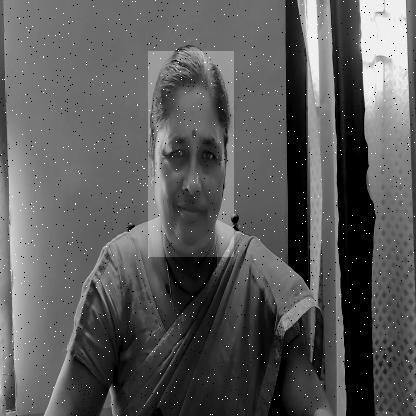Normal: (148, 51, 234, 257)
